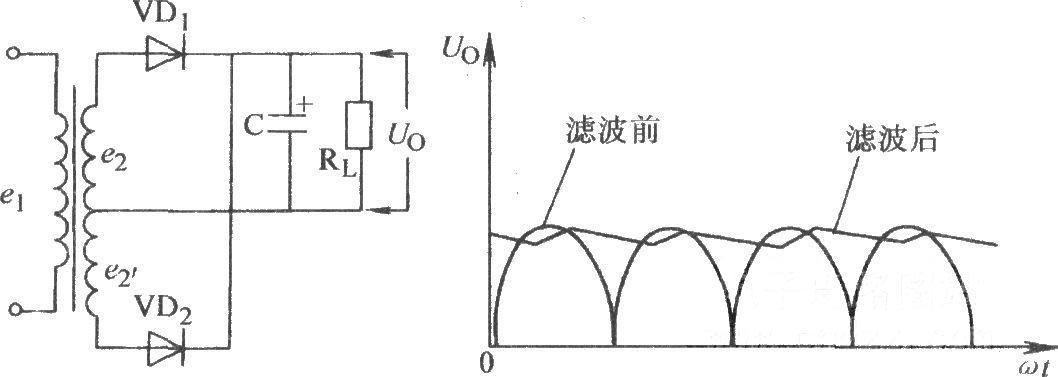cap1: (264, 96, 311, 138)
diode: (137, 30, 193, 80), (141, 327, 194, 371)
res1: (342, 97, 378, 155)
trans: (46, 40, 104, 325)
